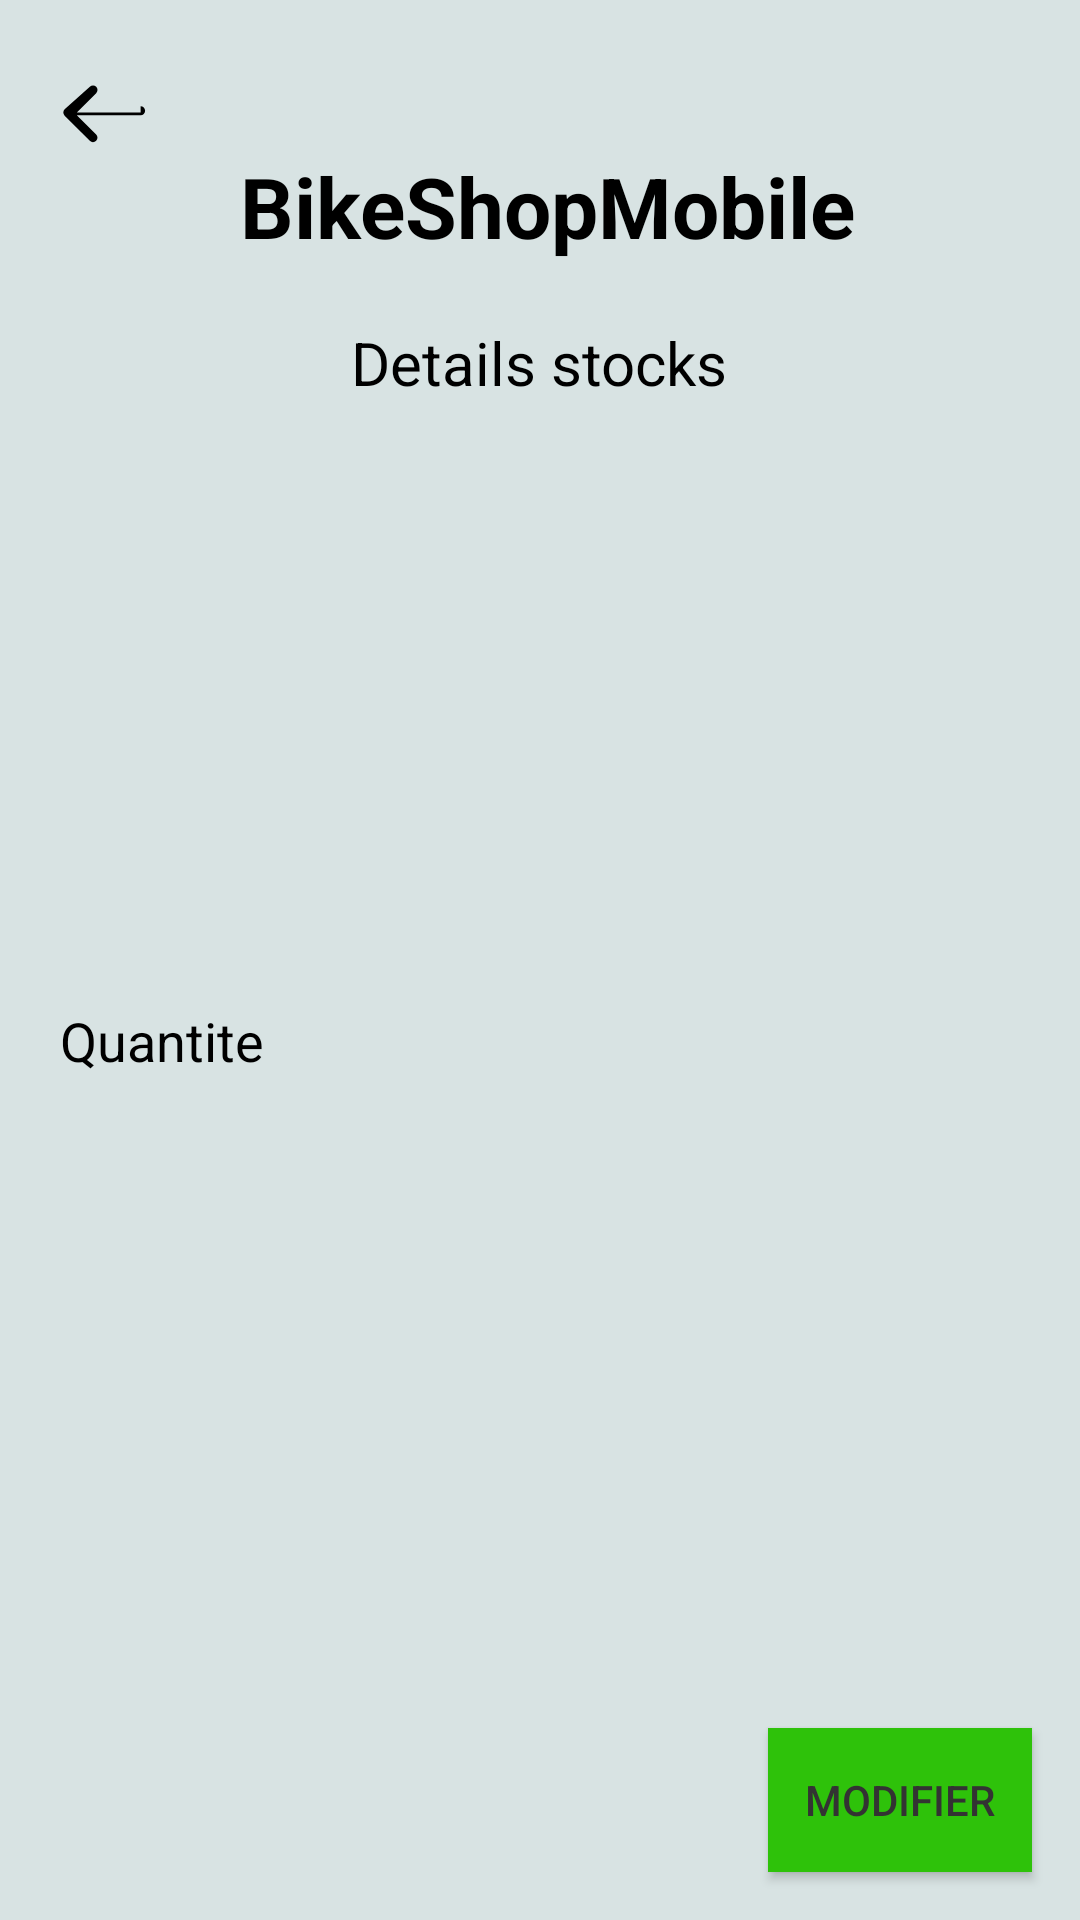

Icon click points for this 1080 x 1920 phone screenshot, format (x,y):
back: (104,114)
